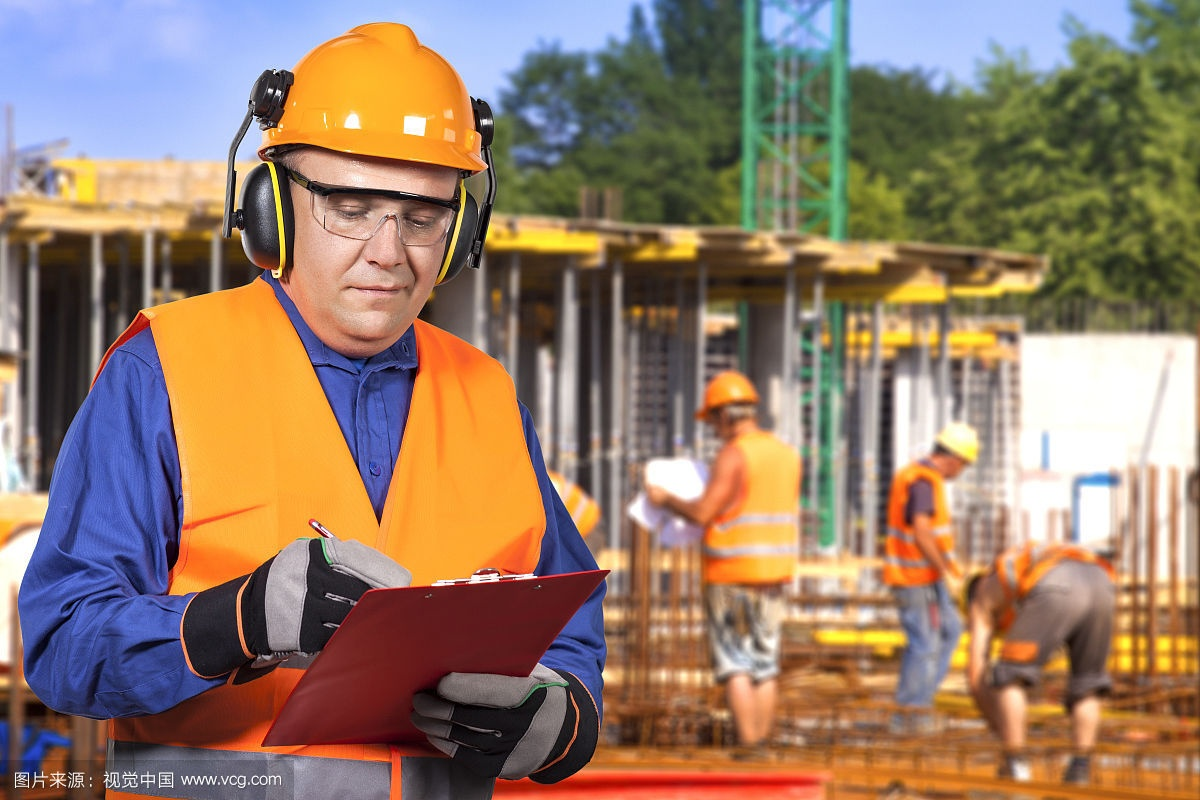yellow: (259, 31, 486, 345), (696, 362, 759, 437), (924, 414, 981, 473)
